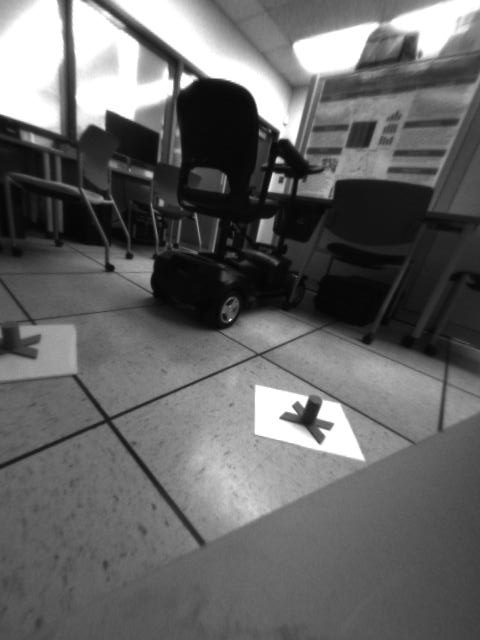X: (277, 394, 333, 444)
